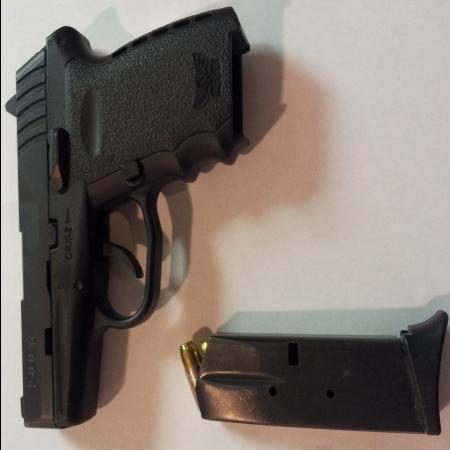Pistol: (4, 7, 256, 429)
